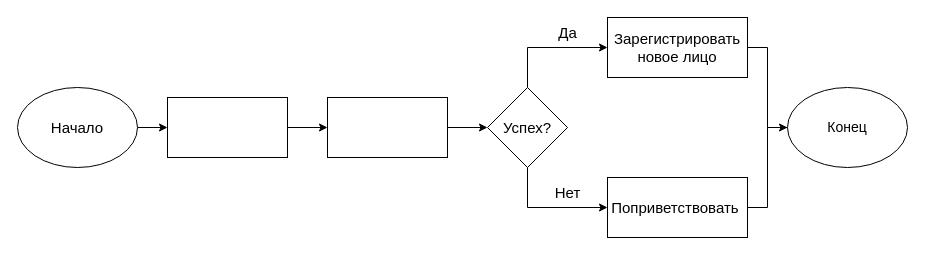
The diagram is 925 pixels wide and 255 high, and some of its shapes have lost their labels. The box of each missing label's shape, as (x1, y1, x2, y2) in pixels:
Вычисление embedding'а лица: (166, 96, 288, 158)
Попытка идентификации: (326, 96, 448, 158)
